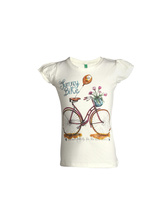clothoes: (35, 52, 137, 168)
